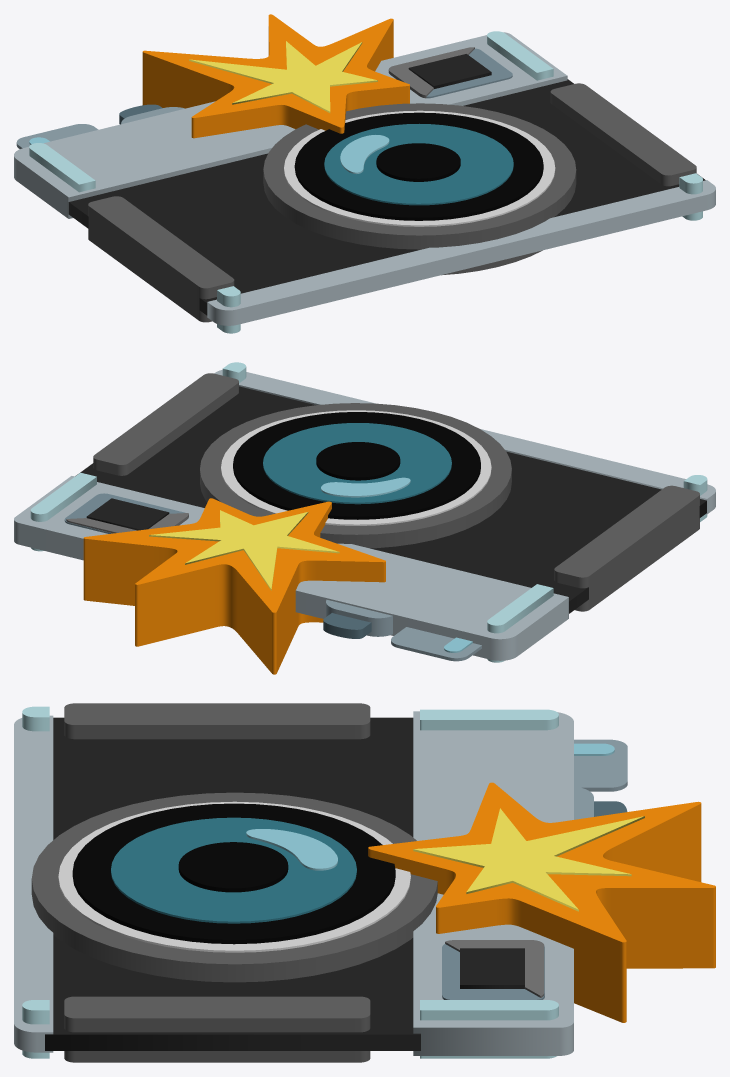
File: emoji_u1f4f8.glb
3 renders of one model, top to bottom at view 1: azimuth 30°, elevation 25°; view 2: azimuth 150°, elevation 25°; view 3: azimuth 270°, elevation 25°, orthographic. The views are drawn at different scales.
Parts seen in each view (by area): view 1: emoji_u1f4f8; view 2: emoji_u1f4f8; view 3: emoji_u1f4f8.
Part boxes in pixels (<box>): emoji_u1f4f8: <box>14,14,715,333</box>; emoji_u1f4f8: <box>14,362,715,674</box>; emoji_u1f4f8: <box>14,703,715,1062</box>.
Bounding box in the file's own units: 0.0338 × 0.0042 × 0.0316.
